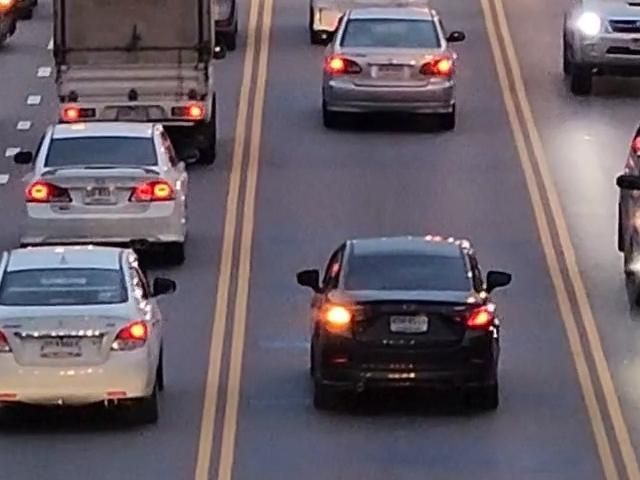car: (280, 228, 523, 425), (0, 228, 206, 445), (10, 122, 213, 275), (316, 0, 473, 145), (553, 0, 640, 98), (306, 0, 449, 51), (99, 0, 254, 44)
truck: (40, 0, 233, 161)
